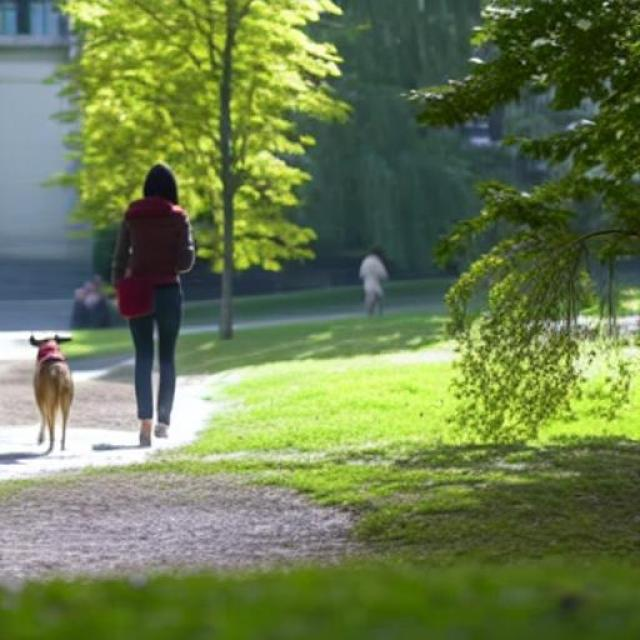Unleashed_Dog: (28, 282, 181, 454)
